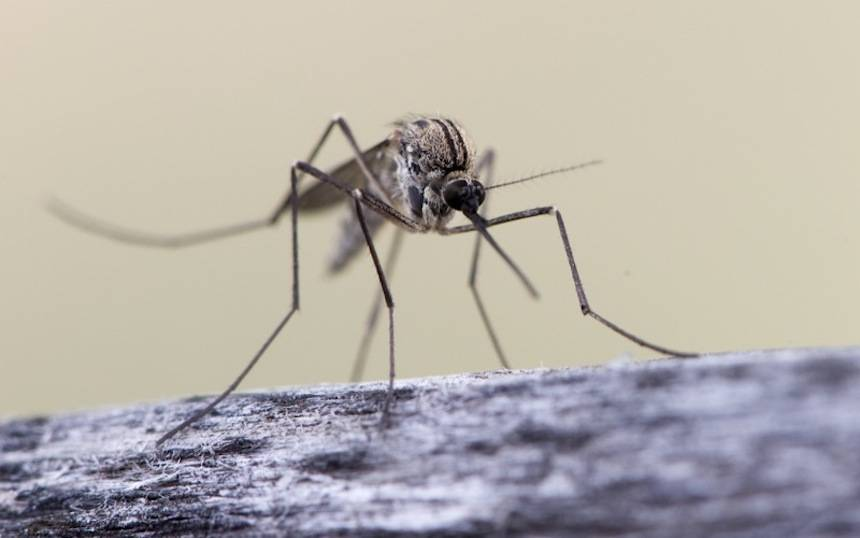mosquito: (142, 98, 722, 455)
